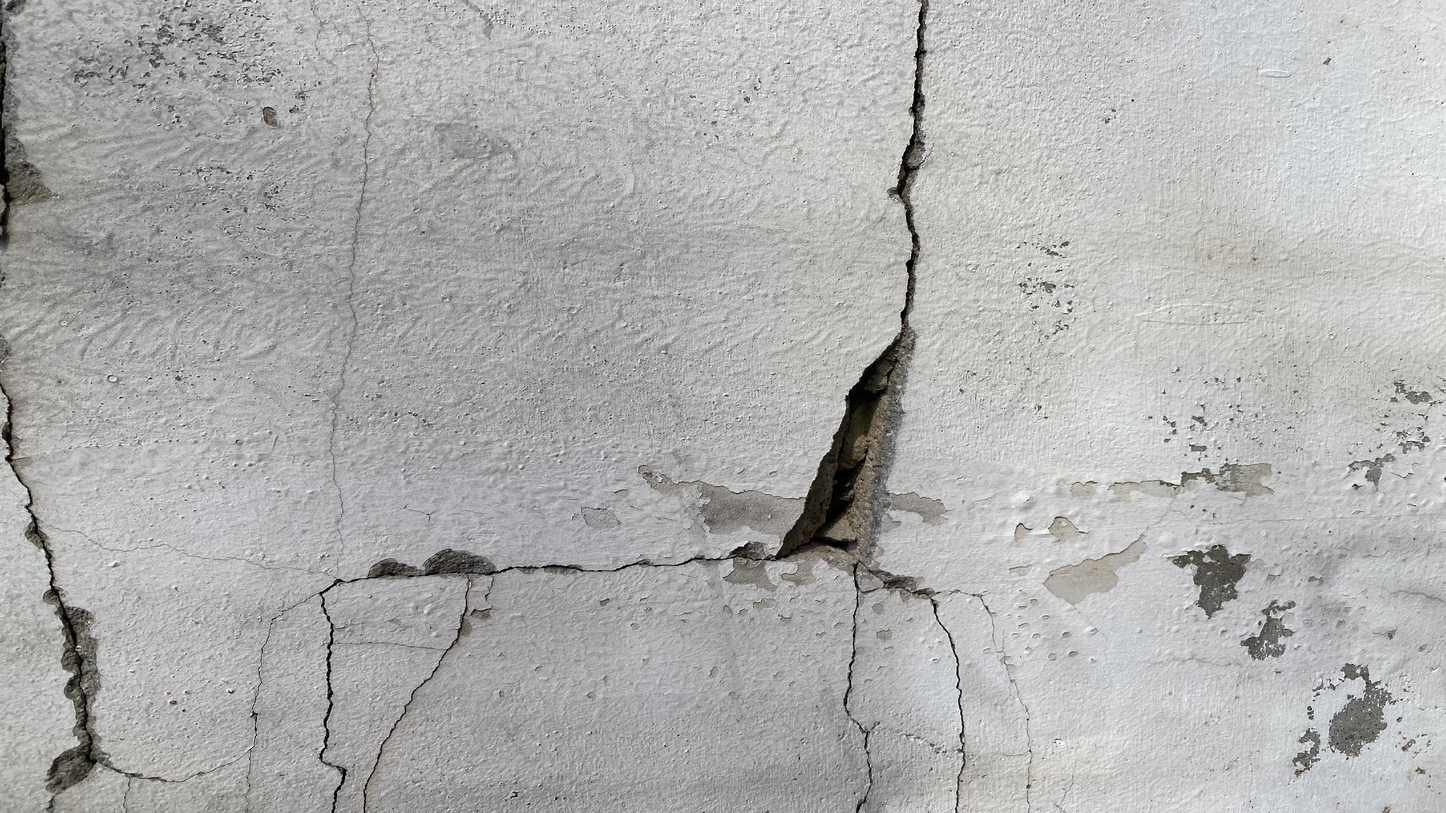crack: (301, 10, 942, 807), (2, 393, 102, 798), (835, 598, 890, 811), (923, 589, 976, 802)
